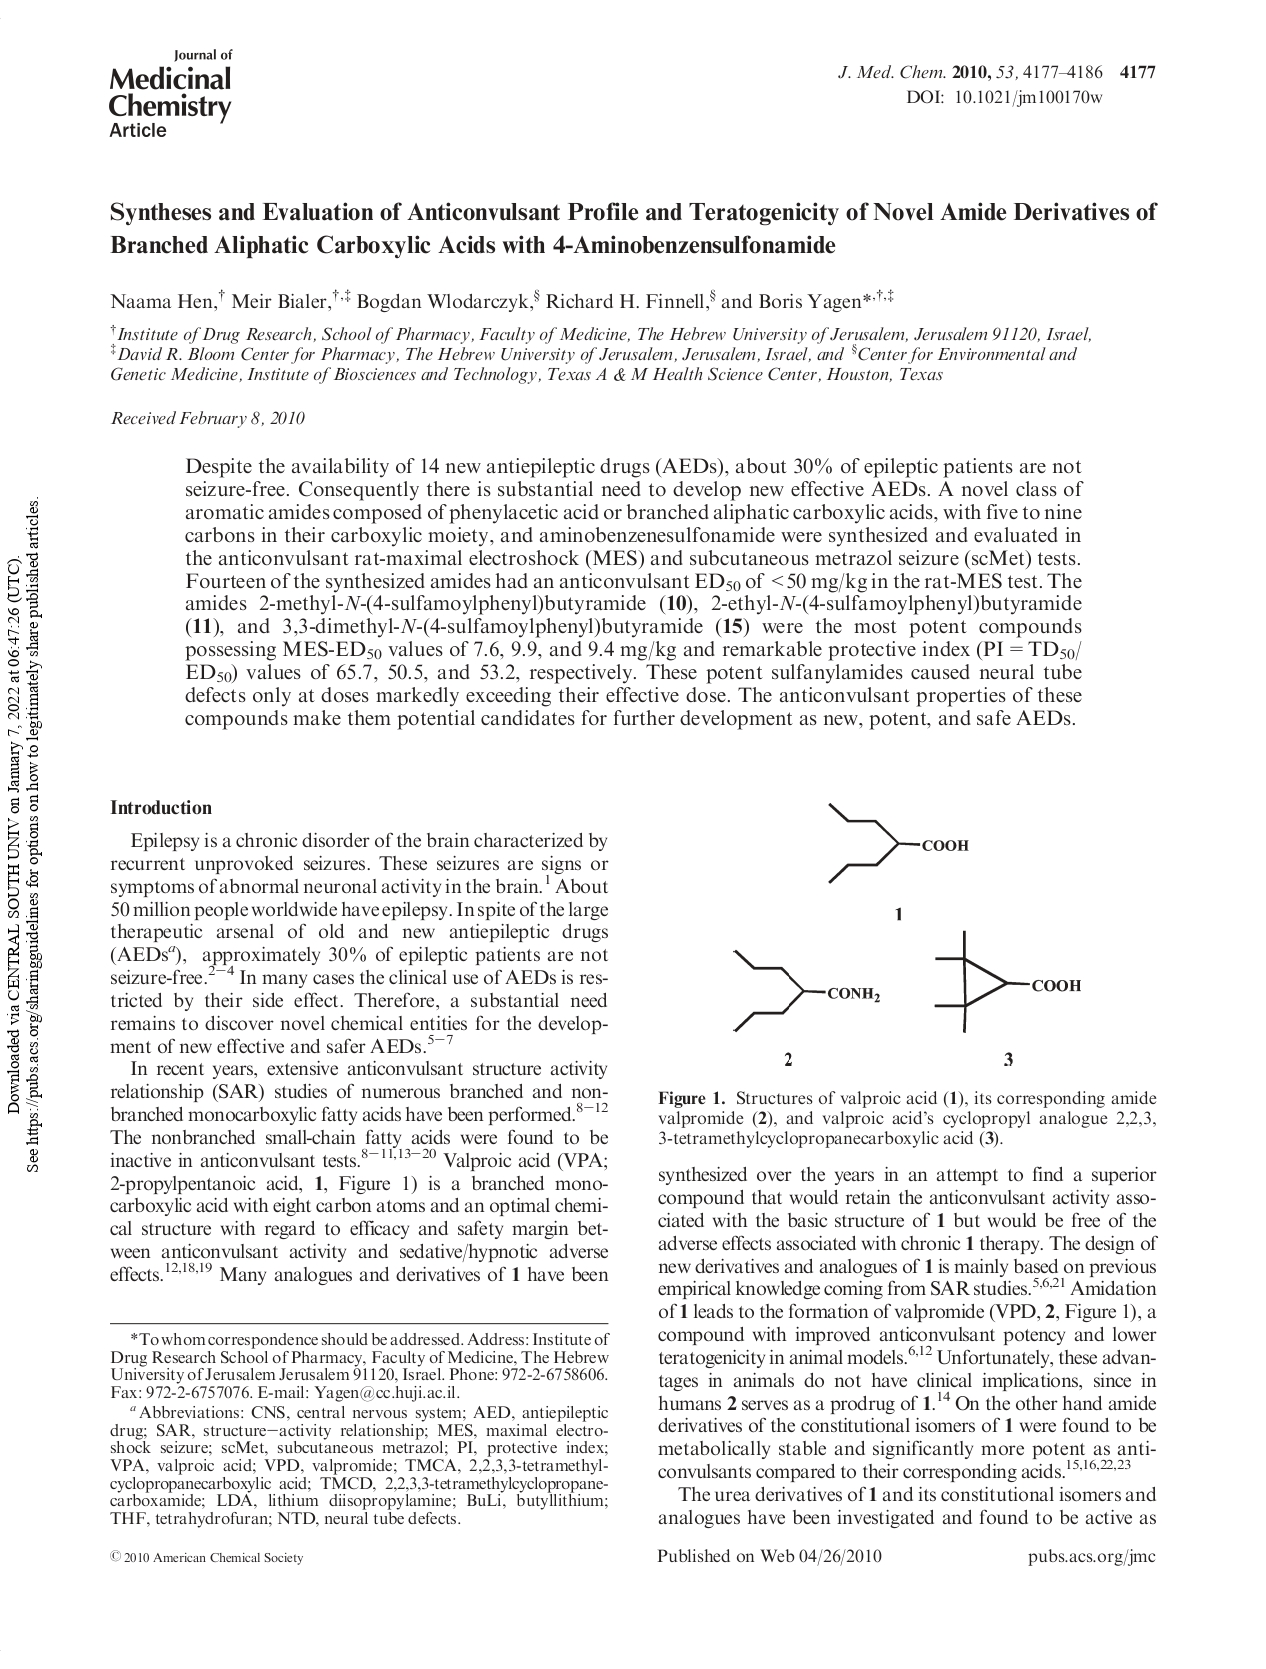exist_molecular: (923, 931, 1094, 1041), (731, 943, 892, 1041), (821, 801, 973, 888)
